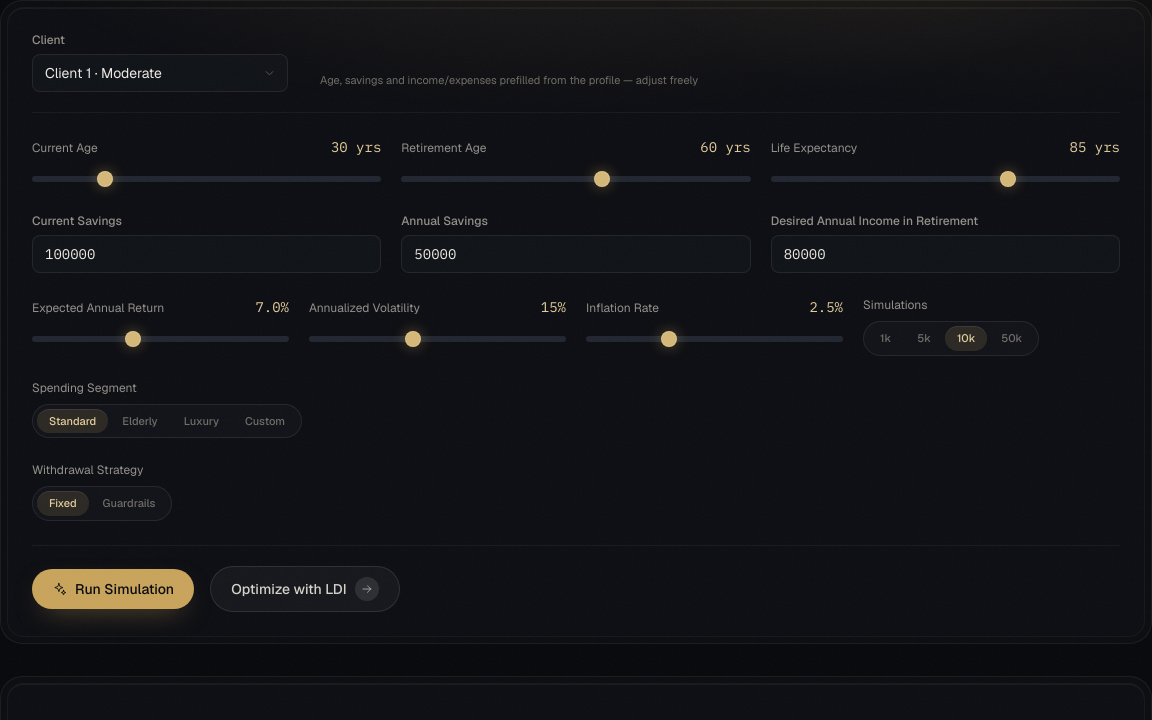
Scenario: RetirementWorkspace results › renders the guardrails comparison tiles when present
Step 1. Click the button "Guardrails" → [129, 503], box [91,491,167,516]
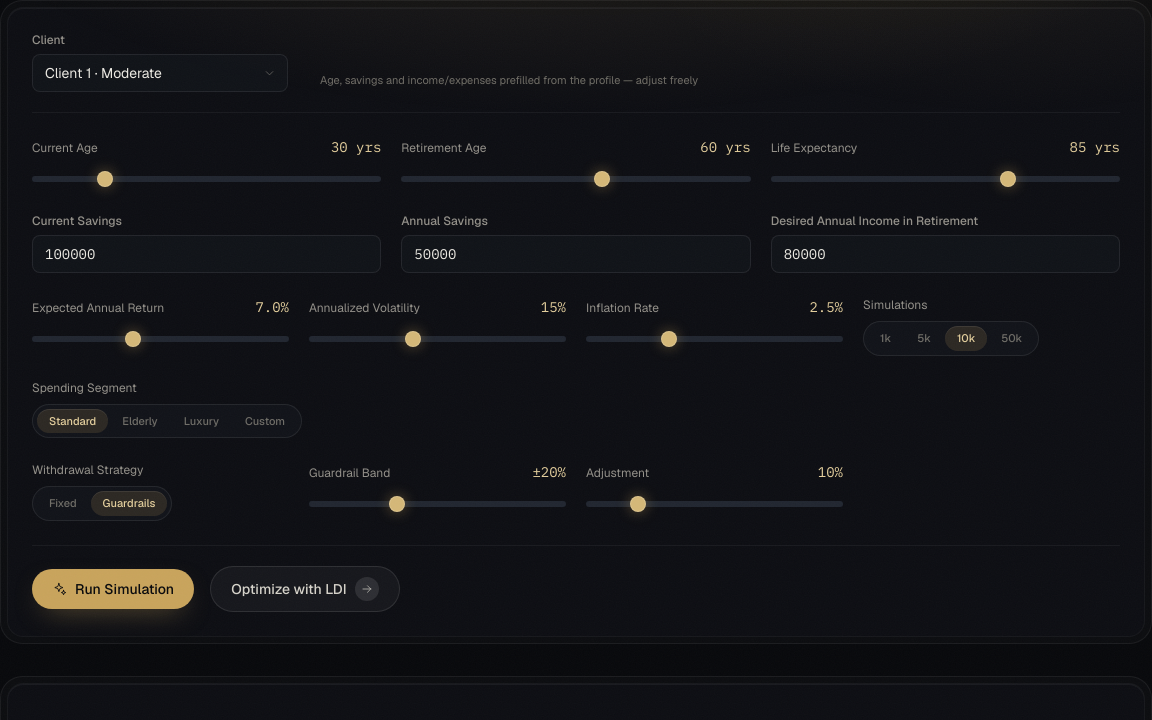
Step 2. Click the button "Run Simulation" → [113, 588], box [32,568,194,608]
(page scrolled)
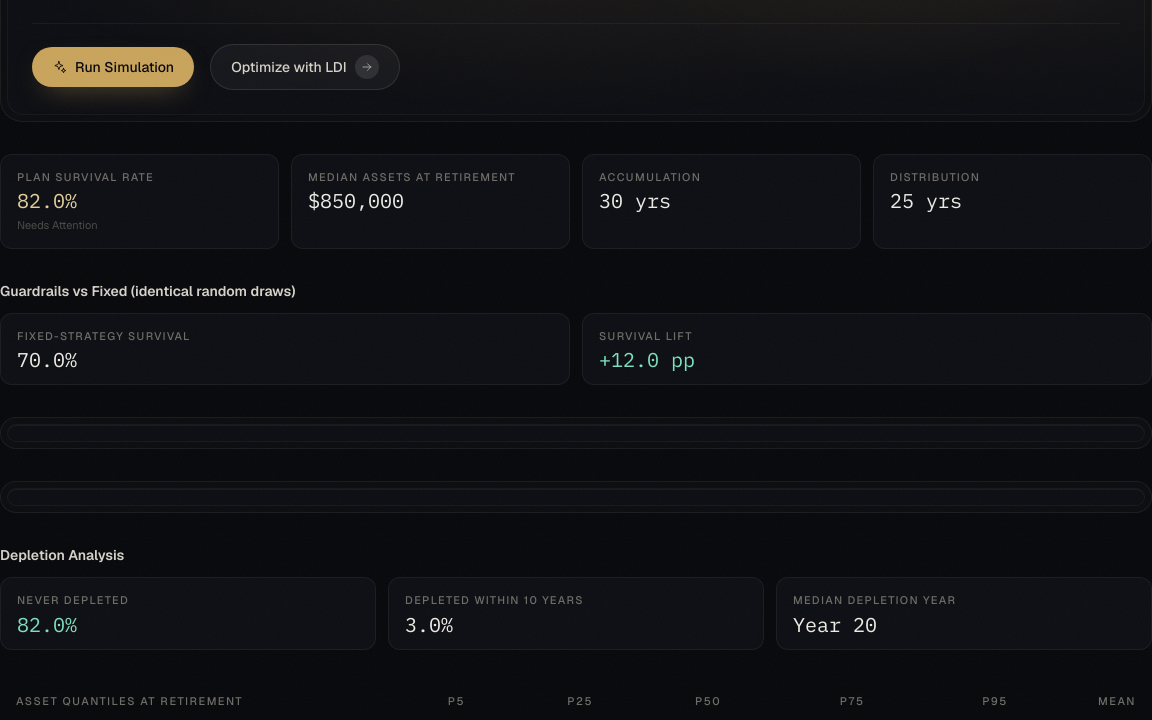
expect the text "Fixed-Strategy Survival" is shown: met, box [17,328,191,342]
expect the text "Survival Lift" is shown: met, box [599,328,693,342]
expect the text "70.0%" is shown: met, box [17,346,77,373]
